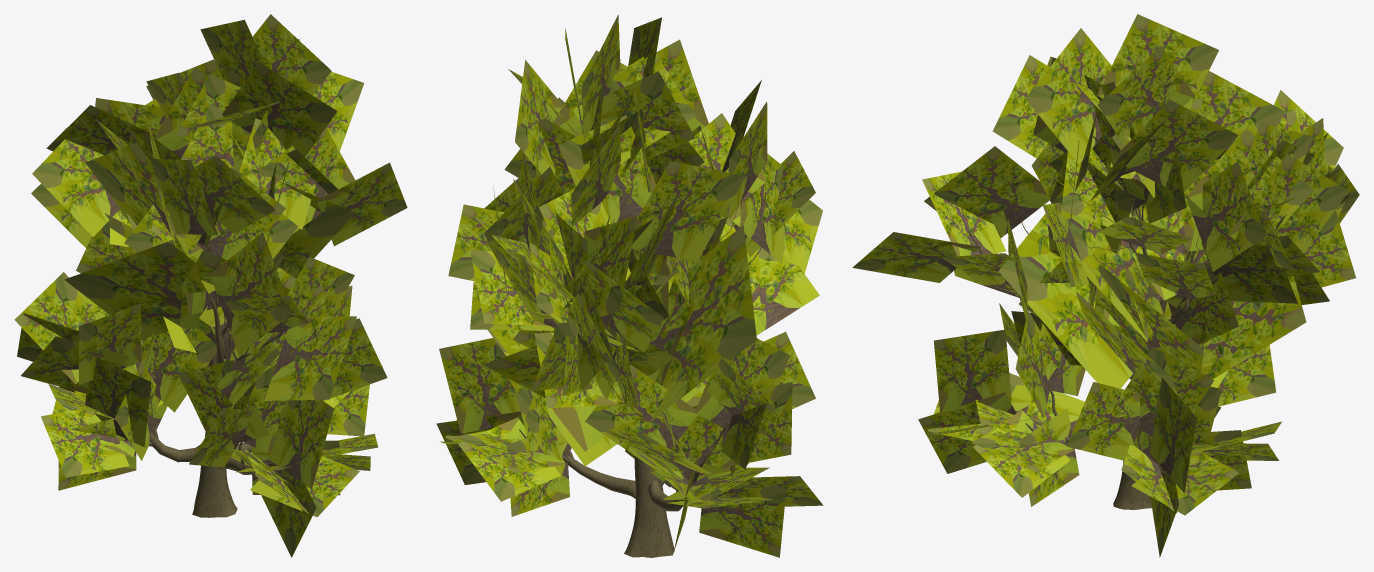
The model's file is TreeHouse Tree.fbx.
3 renders of one model, left to right at view 1: azimuth 30°, elevation 25°; view 2: azimuth 150°, elevation 25°; view 3: azimuth 270°, elevation 25°, orthographic. The views are drawn at different scales.
Visible parts, largest first — view 1: LOD0; view 2: LOD0; view 3: LOD0.
Part boxes in pixels (<box>): LOD0: <box>14,14,407,557</box>; LOD0: <box>436,15,823,557</box>; LOD0: <box>852,14,1359,557</box>.
Size of the model in its own units: 1483 by 2022 by 1839.
